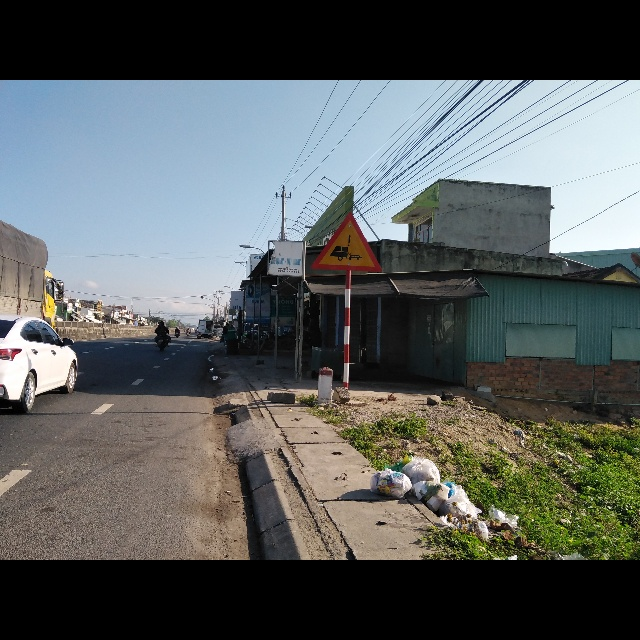Đoạn đường hay xảy ra tai nạn: (314, 212, 382, 272)
